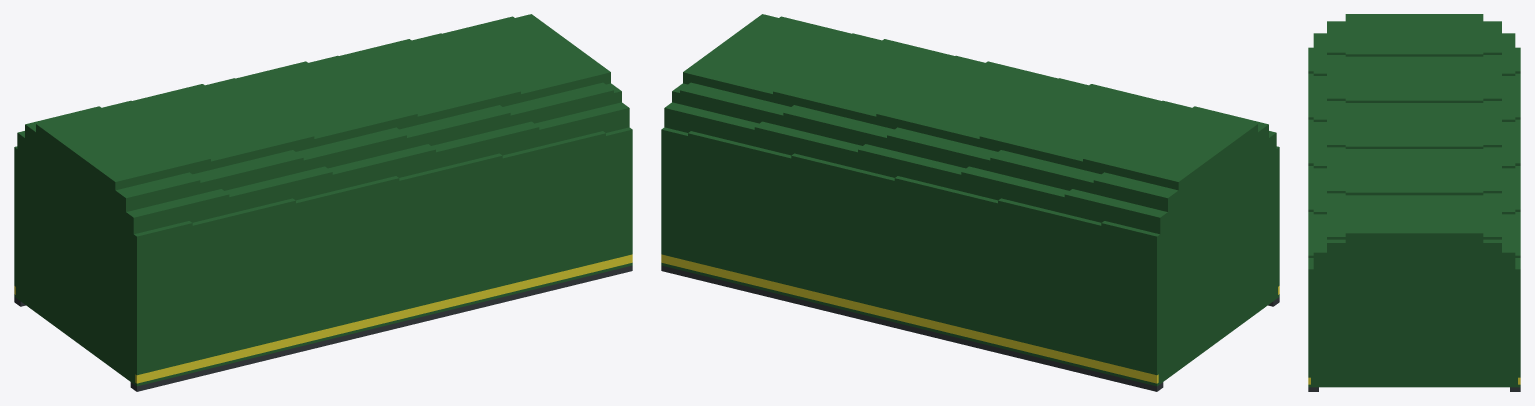
The model's file is refuse_truck_body.glb.
3 views of the same model, side by side, from view 1: azimuth 30°, elevation 25°; view 2: azimuth 150°, elevation 25°; view 3: azimuth 270°, elevation 25° (orthographic). The views are drawn at different scales.
Parts seen in each view (by area): view 1: body:compound; view 2: body:compound; view 3: body:compound.
Part boxes in pixels (x1,y1,x2,y2): body:compound: (14,14,632,391); body:compound: (661,14,1279,391); body:compound: (1308,14,1520,391).
Size of the model in its own units: 5.84 by 2.19 by 2.5.
